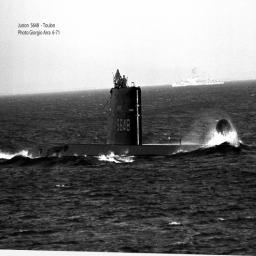submarine: (22, 79, 229, 161)
